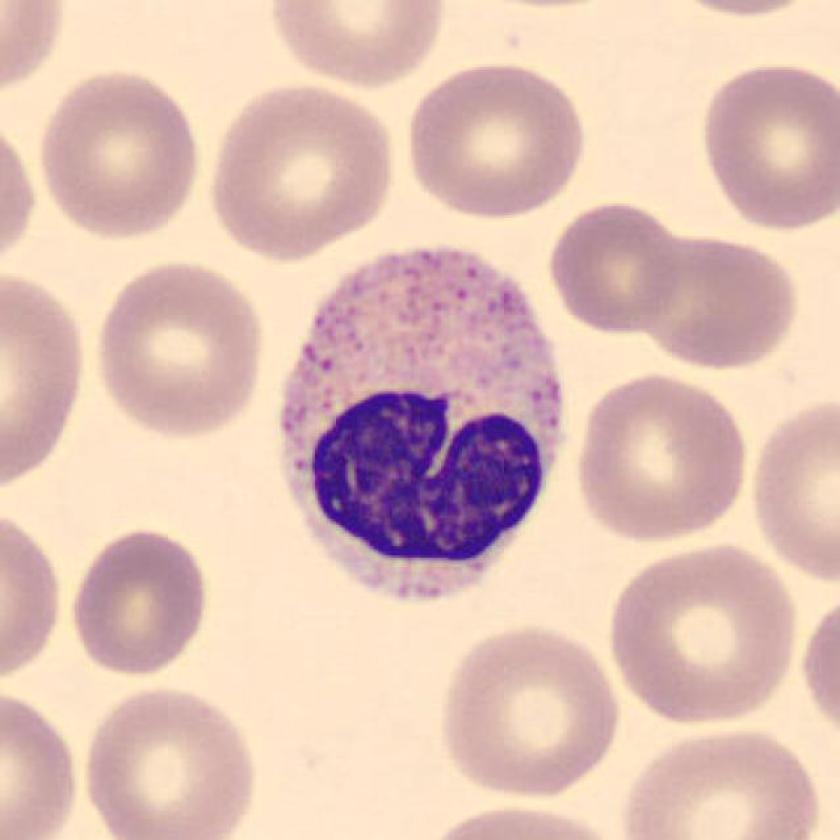neutrophil: (278, 248, 559, 597)
